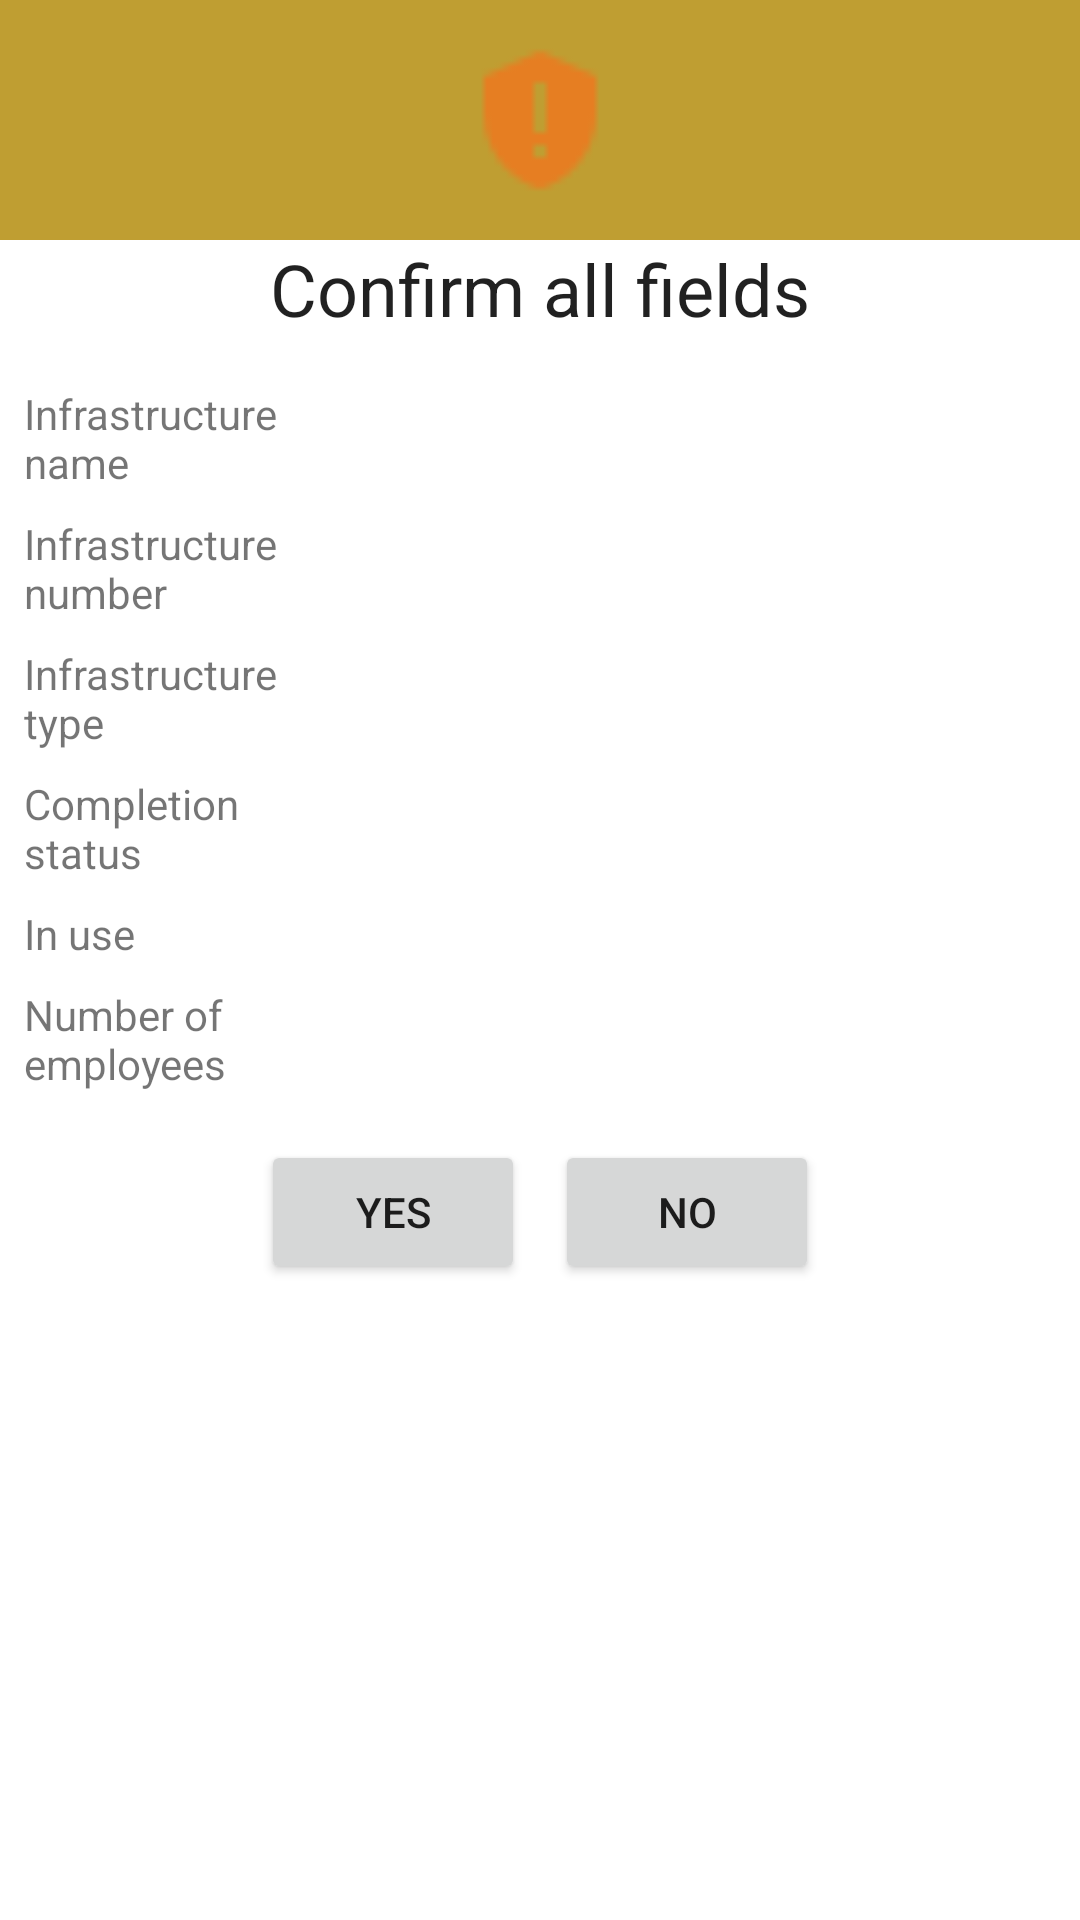

Where icons sit on this 1080 x 1920 app screen, as (x1, y1, x2, y2):
warning: (485, 53, 596, 187)
